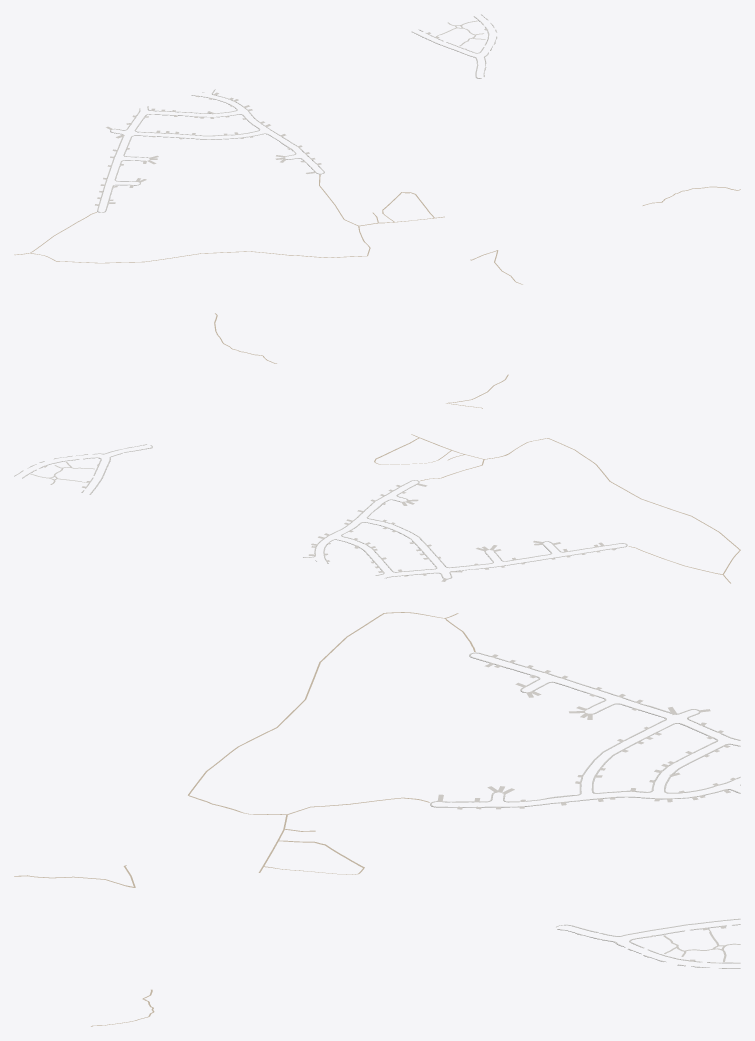
Rendered from ground_r5_c3.glb.
The picture shows the model from 3 angles, top to bottom: view 1: azimuth 30°, elevation 25°; view 2: azimuth 150°, elevation 25°; view 3: azimuth 270°, elevation 25°; orthographic projection. The views are drawn at different scales.
Visible parts, largest first — view 1: sidewalks, paths, driveways; view 2: sidewalks, paths, driveways; view 3: sidewalks, paths, driveways.
Part boxes in pixels (x1,y1,x2,y2): sidewalks: (97,14,497,212); paths: (14,20,740,284); driveways: (95,22,487,205); sidewalks: (14,444,627,579); paths: (30,313,740,583); driveways: (32,464,615,581); sidewalks: (430,652,740,968); paths: (14,612,740,1026); driveways: (437,654,736,963).
Bounding box in the file's own units: 1088 × 67.57 × 779.
